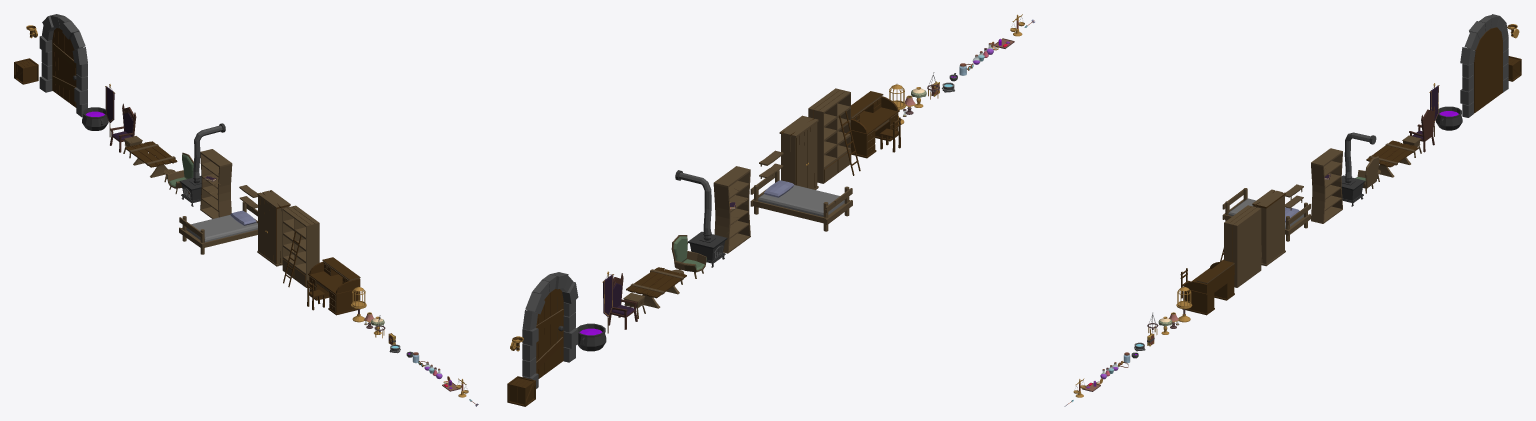
File: interior.fbx
3 renders of one model, left to right at view 1: azimuth 30°, elevation 25°; view 2: azimuth 150°, elevation 25°; view 3: azimuth 330°, elevation 25°, orthographic. The views are drawn at different scales.
Parts seen in each view (by area): view 1: door, bookcase_01, bed, desk, bookcase_02, wardrobe, stove, table, armchair_02, box, boiler, armchair_01; view 2: door, bed, bookcase_01, bookcase_02, wardrobe, desk, stove, table, armchair_01, box, boiler, armchair_02; view 3: door, bookcase_01, bookcase_02, desk, wardrobe, bed, stove, table, boiler, armchair_02, armchair_01.
Part boxes in pixels (<box>): door: <box>39,14,87,117</box>; bookcase_01: <box>282,205,319,287</box>; bed: <box>179,201,257,254</box>; desk: <box>308,257,360,315</box>; bookcase_02: <box>200,149,232,218</box>; wardrobe: <box>257,190,290,266</box>; stove: <box>179,123,225,206</box>; table: <box>125,141,177,177</box>; armchair_02: <box>110,103,136,152</box>; box: <box>14,58,38,84</box>; boiler: <box>82,107,108,130</box>; armchair_01: <box>167,152,193,193</box>; door: <box>522,272,578,388</box>; bed: <box>750,170,852,231</box>; bookcase_01: <box>808,88,851,183</box>; bookcase_02: <box>713,166,750,253</box>; wardrobe: <box>779,115,818,189</box>; desk: <box>851,91,899,158</box>; stove: <box>675,170,727,267</box>; table: <box>626,267,686,308</box>; armchair_01: <box>671,235,706,278</box>; box: <box>507,376,535,406</box>; boiler: <box>577,323,606,351</box>; armchair_02: <box>608,273,637,329</box>; door: <box>1460,14,1508,117</box>; bookcase_01: <box>1224,205,1261,287</box>; bookcase_02: <box>1311,148,1342,223</box>; desk: <box>1182,260,1234,315</box>; wardrobe: <box>1252,189,1285,266</box>; bed: <box>1222,188,1310,241</box>; stove: <box>1341,132,1376,206</box>; table: <box>1366,140,1418,177</box>; boiler: <box>1436,106,1462,130</box>; armchair_02: <box>1409,106,1435,152</box>; armchair_01: <box>1355,156,1379,193</box>.
Bounding box in the file's own units: 2.93 × 26.41 × 2.68.
